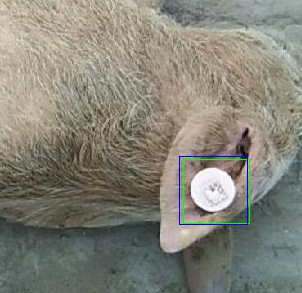text: (183, 159, 249, 223)
